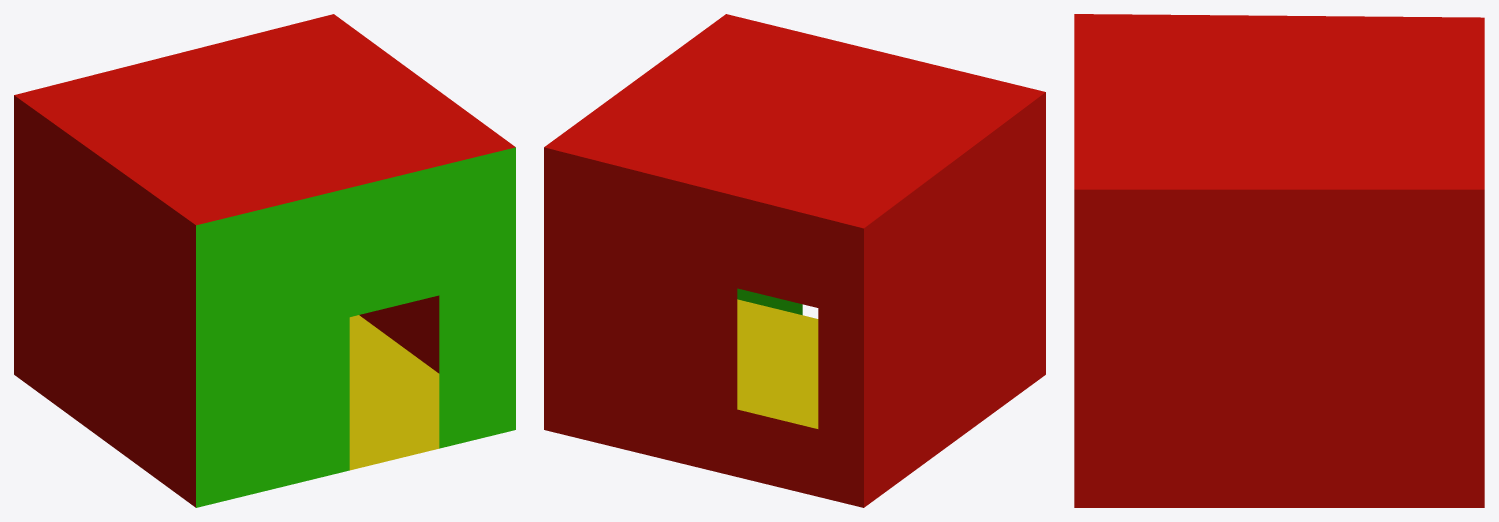
The model's file is Walls.fbx.
3 renders of one model, left to right at view 1: azimuth 30°, elevation 25°; view 2: azimuth 150°, elevation 25°; view 3: azimuth 270°, elevation 25°, orthographic. The views are drawn at different scales.
Visible parts, largest first — view 1: Walls; view 2: Walls; view 3: Walls.
Boxes of the visible parts, x1=… form: Walls: x1=14, y1=14, x2=515, y2=507; Walls: x1=544, y1=14, x2=1045, y2=507; Walls: x1=1074, y1=14, x2=1484, y2=507.
Bounding box in the file's own units: 10.02 × 8.46 × 9.88.
